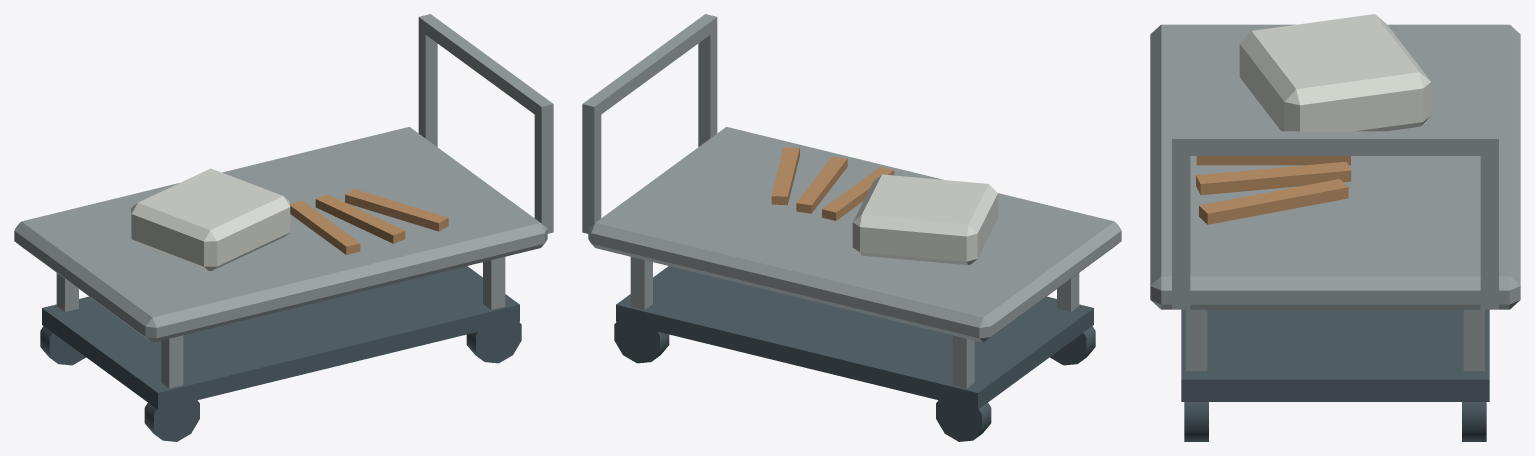
Rendered from cradle_service_cart.glb.
The picture shows the model from 3 angles, left to right: view 1: azimuth 30°, elevation 25°; view 2: azimuth 150°, elevation 25°; view 3: azimuth 270°, elevation 25°; orthographic projection. The views are drawn at different scales.
Visible parts, largest first — view 1: steel, deepsteel, ceramic, steel.007, steel.006, steel.005, copper.002, deepsteel.002, deepsteel.004, copper.001, copper, steel.002 (+3 smaller); view 2: steel, deepsteel, ceramic, steel.007, steel.005, steel.006, deepsteel.001, deepsteel.003, copper.001, copper, steel.001, steel.003 (+3 smaller); view 3: steel, deepsteel, ceramic, steel.007, steel.005, steel.006, copper.002, copper.001, copper, steel.003, steel.004, deepsteel.003 (+1 smaller).
Part boxes in pixels (x1=…): steel: x1=14, y1=127, x2=547, y2=342; deepsteel: x1=42, y1=266, x2=519, y2=409; ceramic: x1=131, y1=168, x2=290, y2=270; steel.007: x1=418, y1=14, x2=553, y2=118; steel.006: x1=534, y1=106, x2=553, y2=233; steel.005: x1=418, y1=19, x2=437, y2=146; copper.002: x1=345, y1=189, x2=448, y2=231; deepsteel.002: x1=144, y1=400, x2=199, y2=441; deepsteel.004: x1=466, y1=322, x2=521, y2=363; copper.001: x1=315, y1=194, x2=405, y2=243; copper: x1=290, y1=201, x2=360, y2=254; steel.002: x1=161, y1=335, x2=183, y2=388; steel: x1=588, y1=127, x2=1121, y2=342; deepsteel: x1=616, y1=266, x2=1093, y2=409; ceramic: x1=852, y1=174, x2=997, y2=265; steel.007: x1=582, y1=14, x2=717, y2=119; steel.005: x1=582, y1=104, x2=601, y2=233; steel.006: x1=698, y1=19, x2=717, y2=146; deepsteel.001: x1=936, y1=400, x2=991, y2=441; deepsteel.003: x1=614, y1=322, x2=669, y2=363; copper.001: x1=796, y1=156, x2=847, y2=213; copper: x1=822, y1=167, x2=894, y2=220; steel.001: x1=952, y1=335, x2=974, y2=388; steel.003: x1=630, y1=257, x2=652, y2=309; steel: x1=1150, y1=24, x2=1520, y2=309; deepsteel: x1=1181, y1=309, x2=1489, y2=401; ceramic: x1=1239, y1=14, x2=1431, y2=131; steel.007: x1=1172, y1=131, x2=1498, y2=155; steel.005: x1=1480, y1=142, x2=1498, y2=309; steel.006: x1=1172, y1=142, x2=1190, y2=309; copper.002: x1=1199, y1=179, x2=1348, y2=224; copper.001: x1=1196, y1=161, x2=1351, y2=195; copper: x1=1196, y1=156, x2=1350, y2=165; steel.003: x1=1463, y1=309, x2=1484, y2=370; steel.004: x1=1186, y1=309, x2=1207, y2=370; deepsteel.003: x1=1462, y1=402, x2=1486, y2=441.
Bounding box in the file's own units: 2.05 × 1.19 × 1.2.
